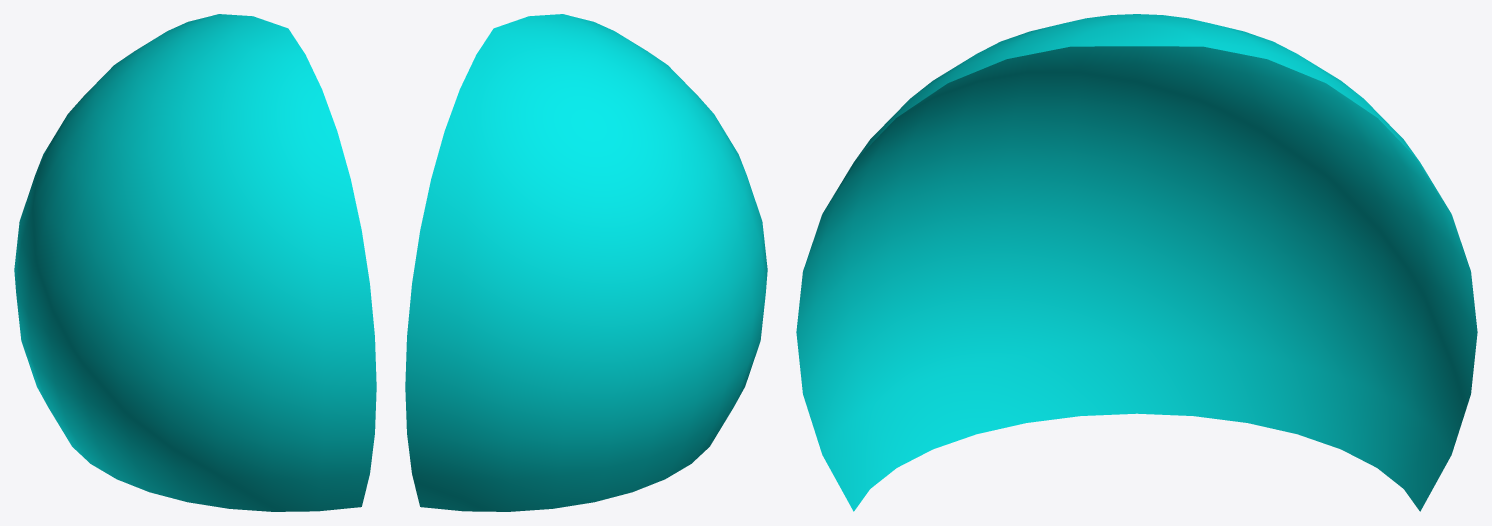
Rendered from shield.glb.
3 renders of one model, left to right at view 1: azimuth 30°, elevation 25°; view 2: azimuth 150°, elevation 25°; view 3: azimuth 270°, elevation 25°, orthographic. The views are drawn at different scales.
Visible parts, largest first — view 1: Sphere.001; view 2: Sphere.001; view 3: Sphere.001.
Part boxes in pixels (<box>): Sphere.001: <box>14,14,376,511</box>; Sphere.001: <box>405,14,767,511</box>; Sphere.001: <box>796,14,1477,511</box>.
Size of the model in its own units: 1.37 by 2.14 by 2.7.
